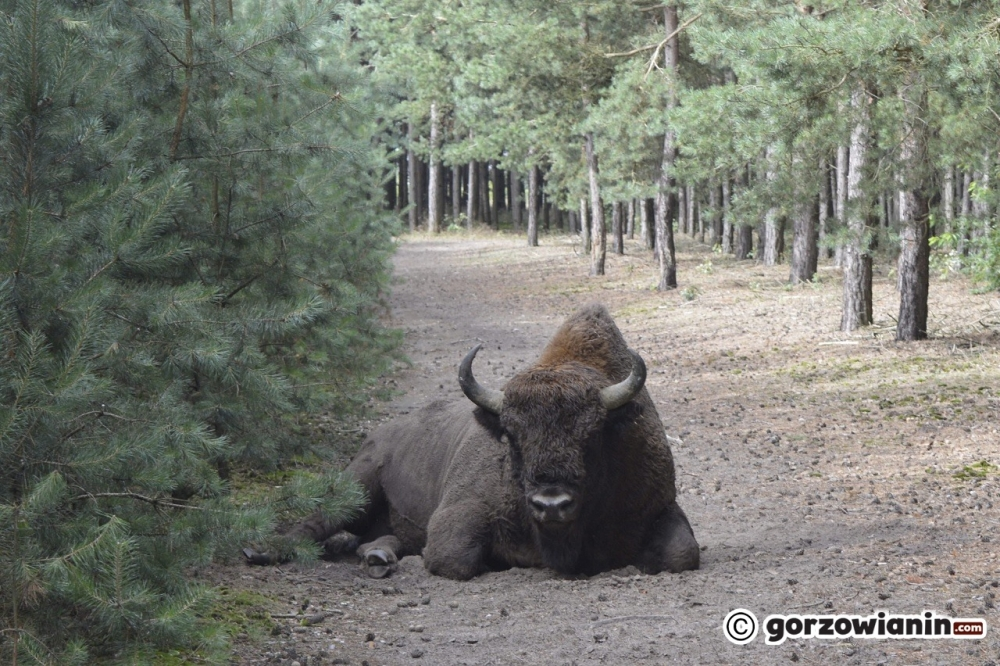zubr: (266, 271, 733, 601)
